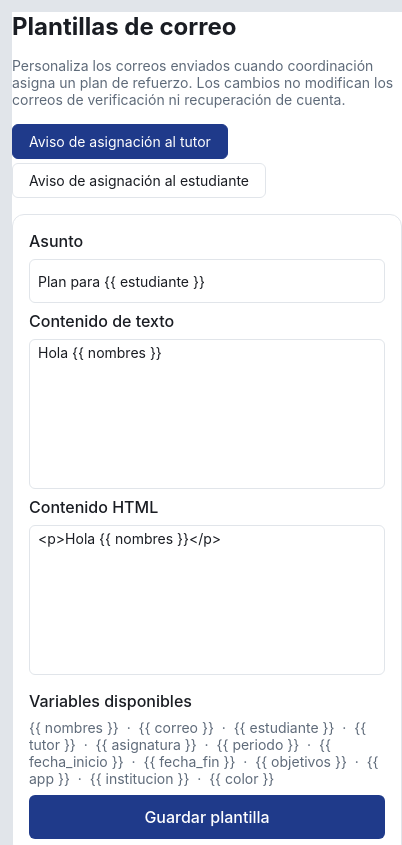
Test: guarda el asunto y los contenidos de la plantilla seleccionada
Replace the text in the field named "Asunto del correo" with "Nuevo asunto" at (207, 281), box [29,259,385,303]
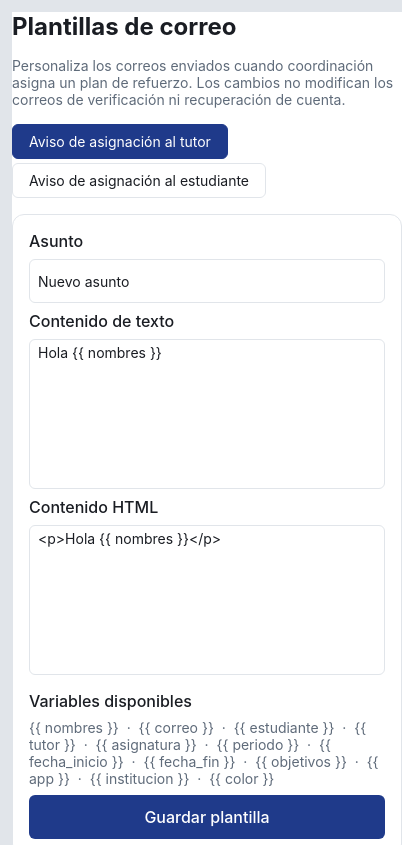
Click the button "Guardar plantilla".
click(207, 817)  # box [29,795,385,839]
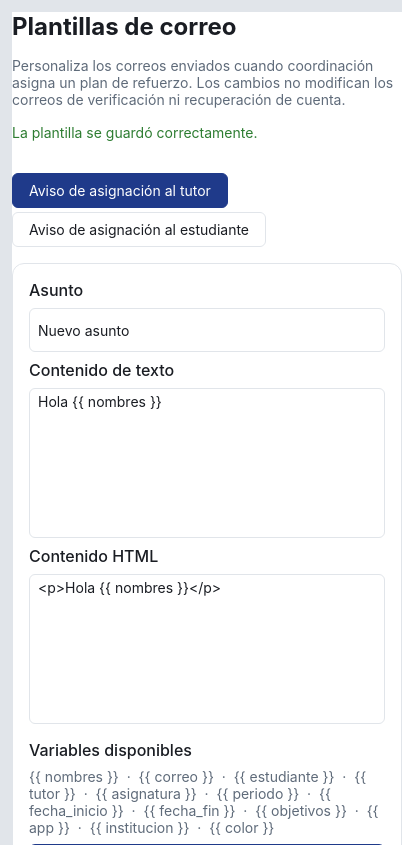
Check: the text "La plantilla se guardó correctamente." is shown, box [12,124,258,141]
